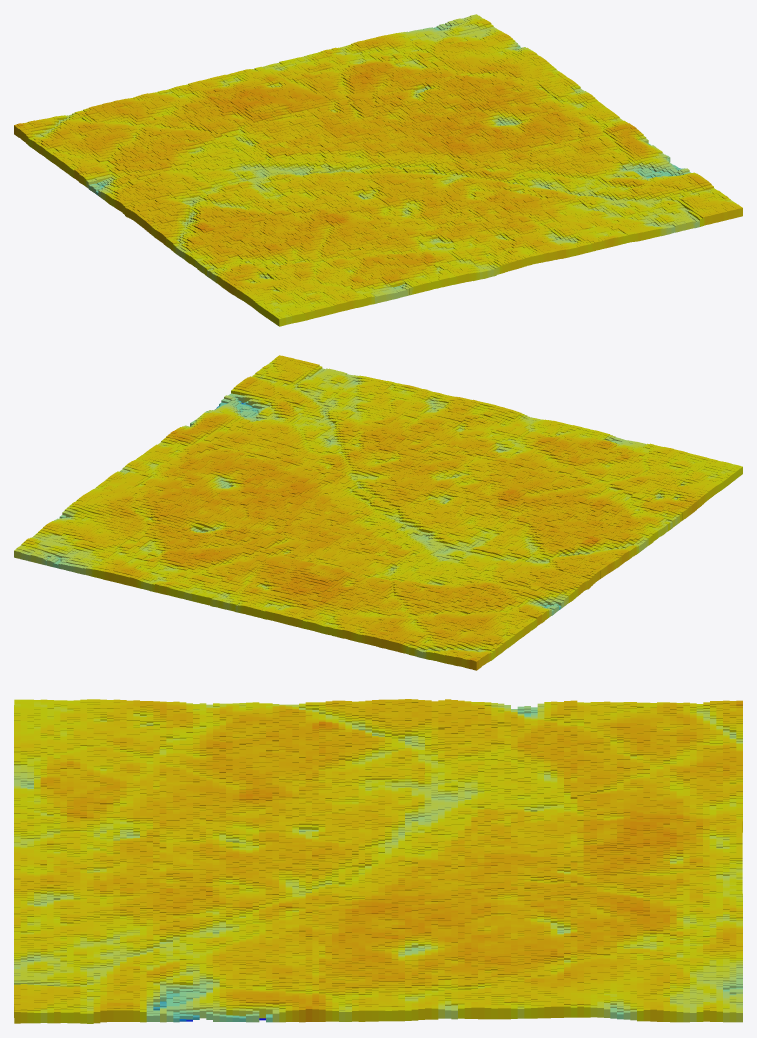
Rendered from population.glb.
The picture shows the model from 3 angles, top to bottom: view 1: azimuth 30°, elevation 25°; view 2: azimuth 150°, elevation 25°; view 3: azimuth 270°, elevation 25°; orthographic projection. The views are drawn at different scales.
Parts seen in each view (by area): view 1: population; view 2: population; view 3: population.
Part boxes in pixels (x1,y1,x2,y2): population: [14, 14, 742, 326]; population: [14, 355, 742, 670]; population: [14, 699, 742, 1023].
Bounding box in the file's own units: 11066 × 326 × 10991.
